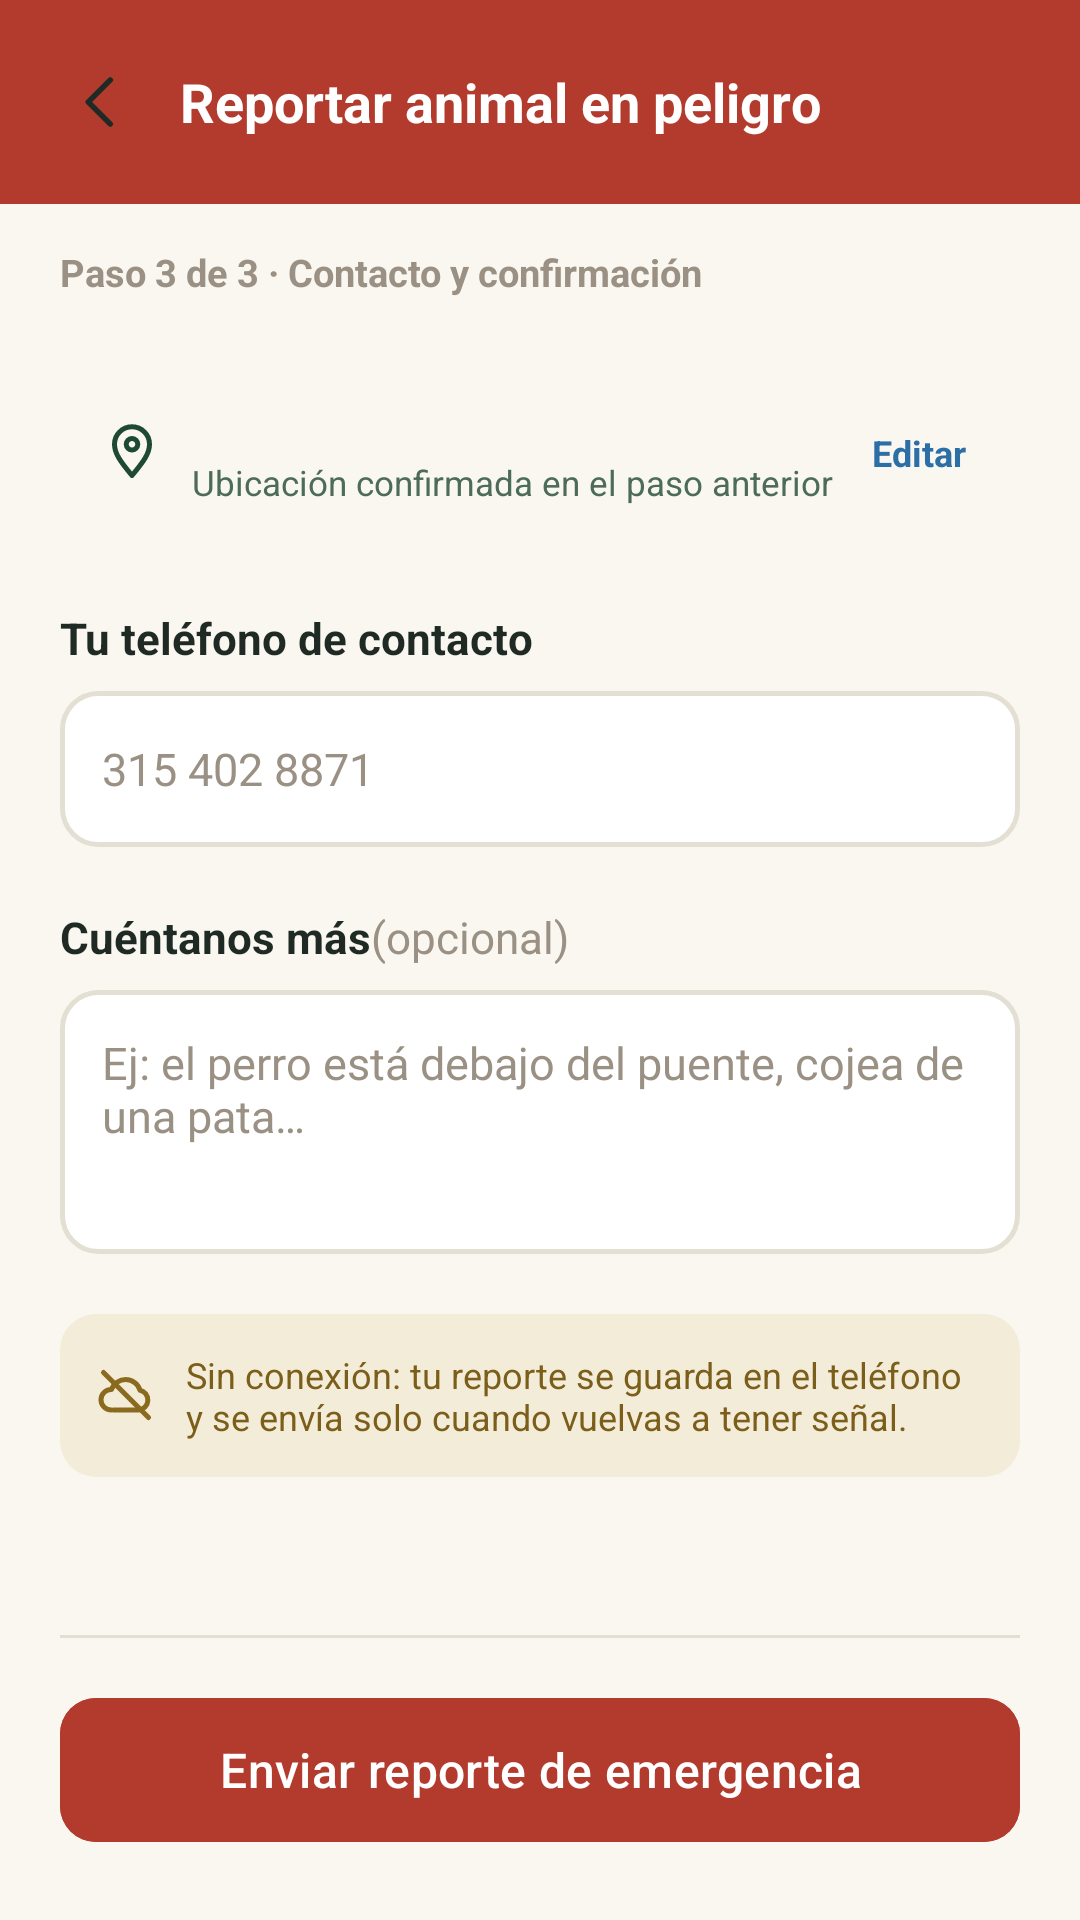

Locate icon controls on the screen. Image size 1080px×1920px, boxes as (x1, y1, x2, y2).
location pin: (112, 424, 152, 478)
Volver: (85, 77, 113, 127)
